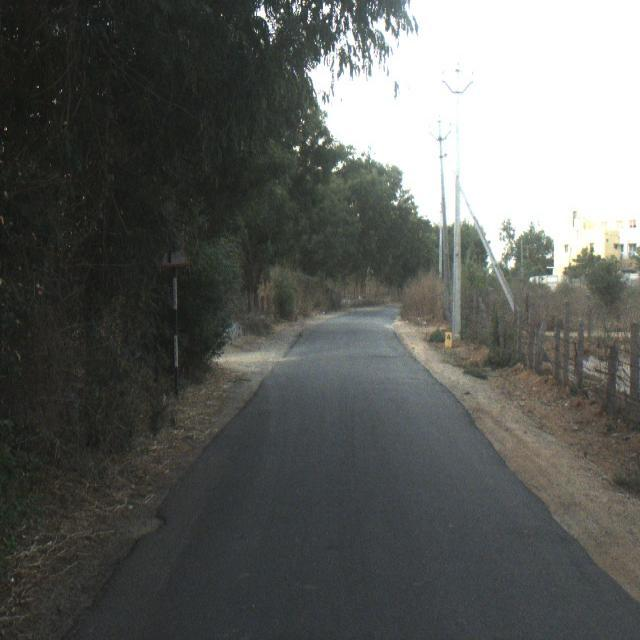pothole: (134, 493, 178, 558)
